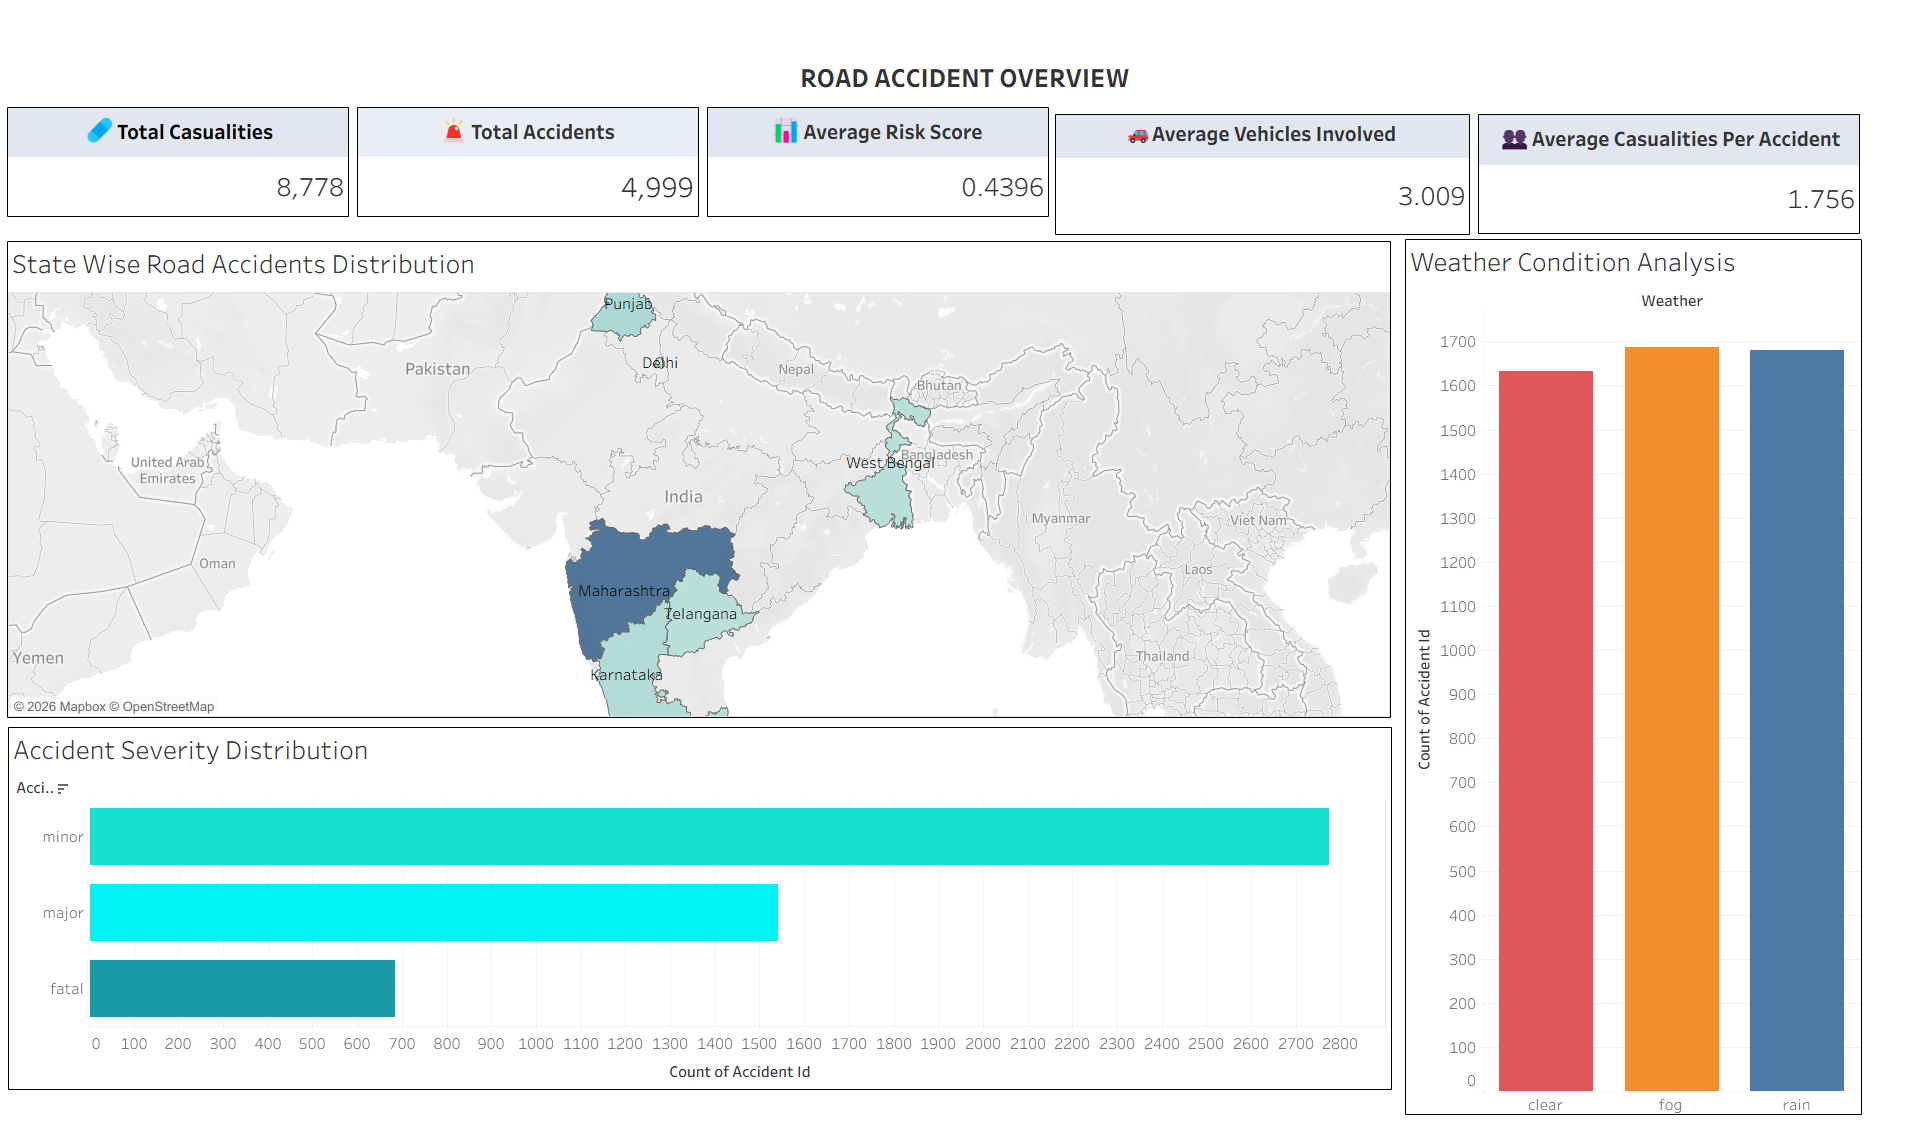

What the dashboard file says about the page in this screenshot:
{"tool":"tableau","page":{"name":"Dashboard 1","canvas":[1000,1000],"units":"permille","ordinal":0},"visuals":[{"type":"title","box":[3.8,8.4,916.2,54.5]},{"type":"legend","title":"Accident Severity Distribution","param":"[federated.1e2u9wt1gwno0a15n55wn1i76iog].[none:accident_severity:nk]","box":[920,8.4,76.2,97.4]},{"type":"worksheet","title":"Total Casualities ","mark":"Automatic","box":[3.8,62.8,166.7,123.6]},{"type":"worksheet","title":"Total accidents","mark":"Automatic","box":[170.5,62.8,166.7,123.6]},{"type":"worksheet","title":"Average Risk Score ","mark":"Automatic","box":[337.2,62.8,166.7,123.6]},{"type":"worksheet","title":"Average Vehicles Involved","mark":"Automatic","box":[504.8,67,197.6,114.1]},{"type":"worksheet","title":"Average Casualities Per Accident","mark":"Automatic","box":[706.2,67,181.9,113.1]},{"type":"worksheet","title":"State Wise Road Accidents Distribution","mark":"Multipolygon","box":[5.7,186.4,659.1,450.3]},{"type":"worksheet","title":"Accident Severity Distribution","mark":"Bar","rows":["accident_severity"],"cols":["accident_id"],"box":[6.2,645,659.1,342.4]}]}

Visuals, with their boxes on the dashboard's canvas, which has no fixed pixel size, in thousandths of its width and height (x1, y1, x2, y2). These are canvas units, not pixel positions in the 1907x1145 screenshot, which may show the page scaled, cropped or inside an application window:
title: {"x1": 4, "y1": 8, "x2": 920, "y2": 63}
"Accident Severity Distribution" legend: {"x1": 920, "y1": 8, "x2": 996, "y2": 106}
"Total Casualities " worksheet: {"x1": 4, "y1": 63, "x2": 170, "y2": 186}
"Total accidents" worksheet: {"x1": 170, "y1": 63, "x2": 337, "y2": 186}
"Average Risk Score " worksheet: {"x1": 337, "y1": 63, "x2": 504, "y2": 186}
"Average Vehicles Involved" worksheet: {"x1": 505, "y1": 67, "x2": 702, "y2": 181}
"Average Casualities Per Accident" worksheet: {"x1": 706, "y1": 67, "x2": 888, "y2": 180}
"State Wise Road Accidents Distribution" worksheet (Multipolygon marks): {"x1": 6, "y1": 186, "x2": 665, "y2": 637}
"Accident Severity Distribution" worksheet (Bar marks): {"x1": 6, "y1": 645, "x2": 665, "y2": 987}
